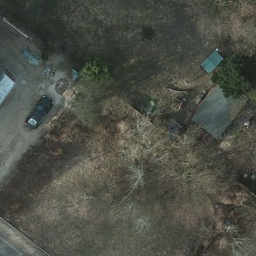car: (25, 96, 51, 128)
